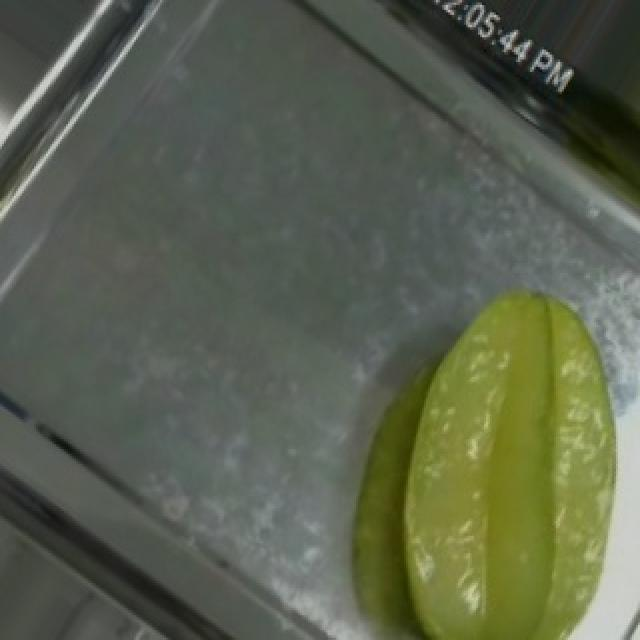fruit: (326, 240, 640, 640)
